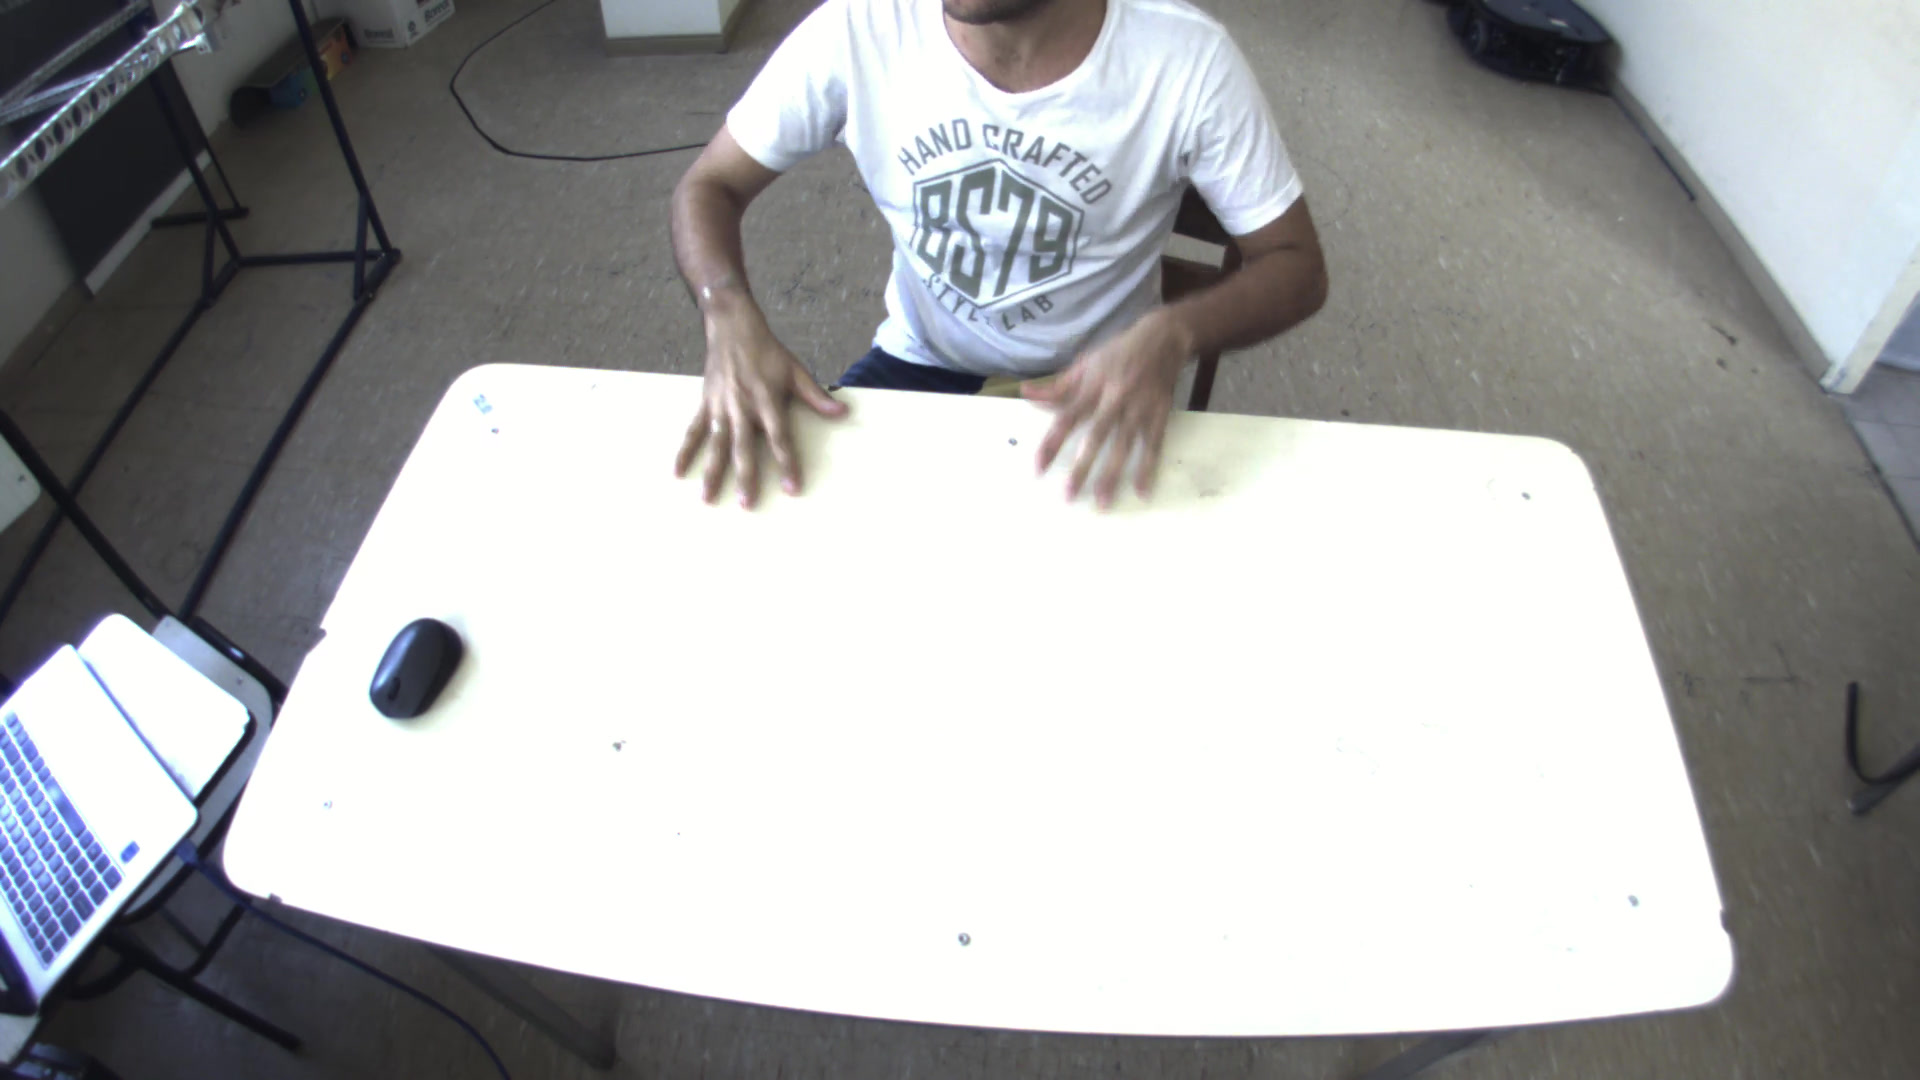hand: (657, 309, 851, 513), (1015, 306, 1203, 512)
